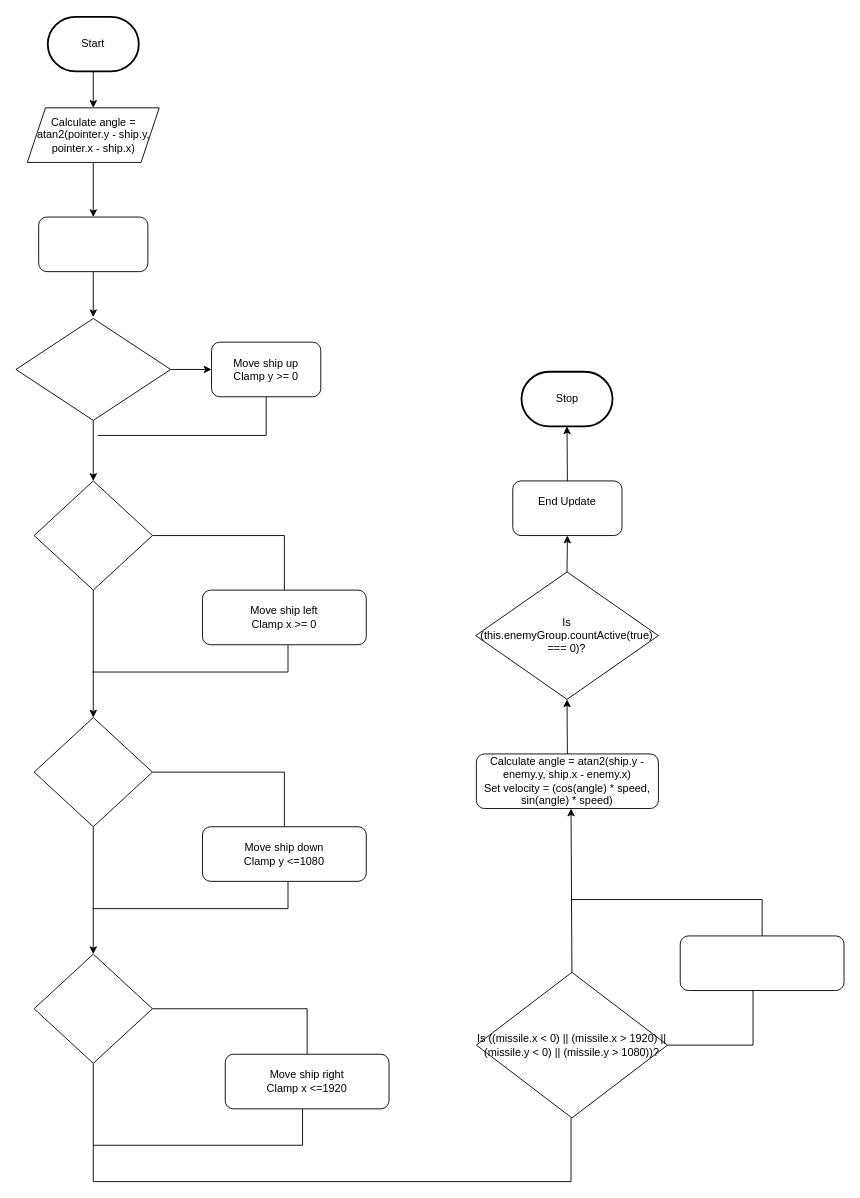
The diagram is 860 pixels wide and 1198 high, and some of its shapes have lost their labels. Each missing label, with the centre of its shape:
Destroy missile: the point at 761,963
Is (keyDownObj.isDown == true)?: the point at 92,772
Is (keyLeftObj.isDown == true)?: the point at 92,535
Is (keyRightObj.isDown == true)?: the point at 92,1008
Is (keyUpObj.isDown == true)?: the point at 93,369
Rotate ship to angle: the point at 93,244
